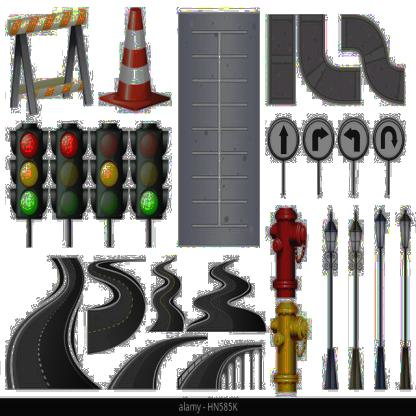U-turn: (372, 115, 405, 162)
